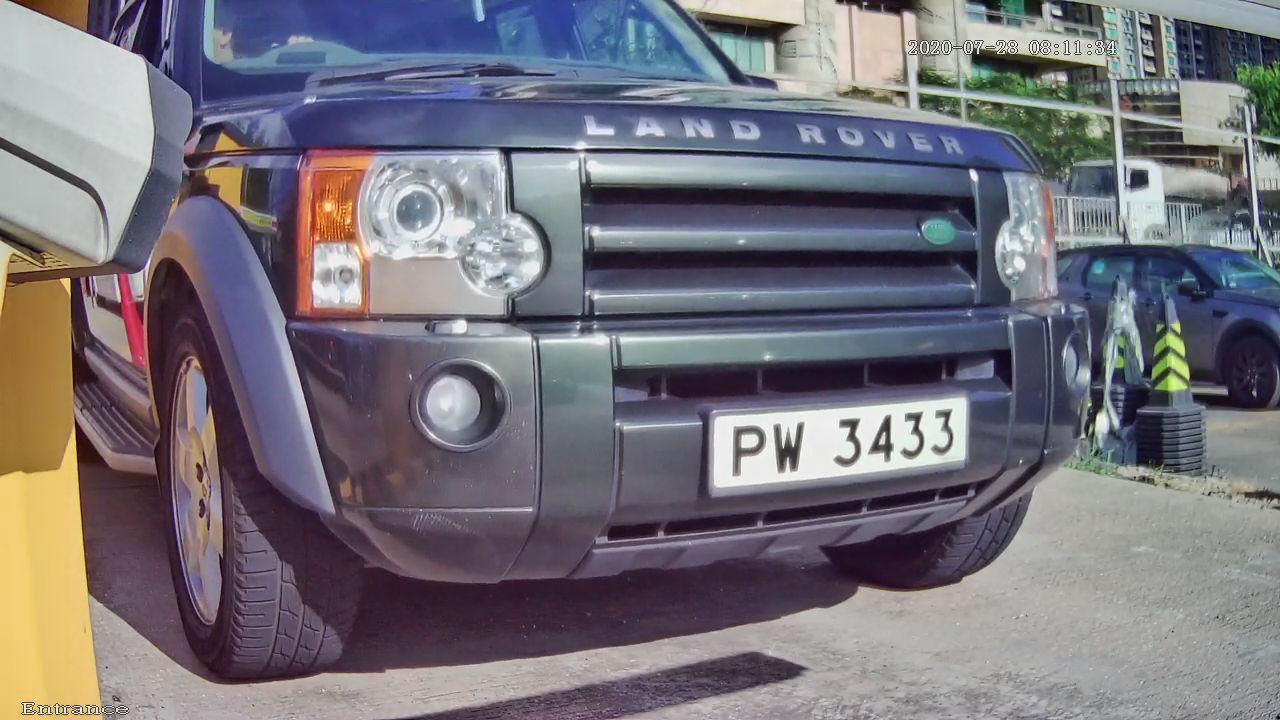privatecar: (18, 4, 1201, 695)
